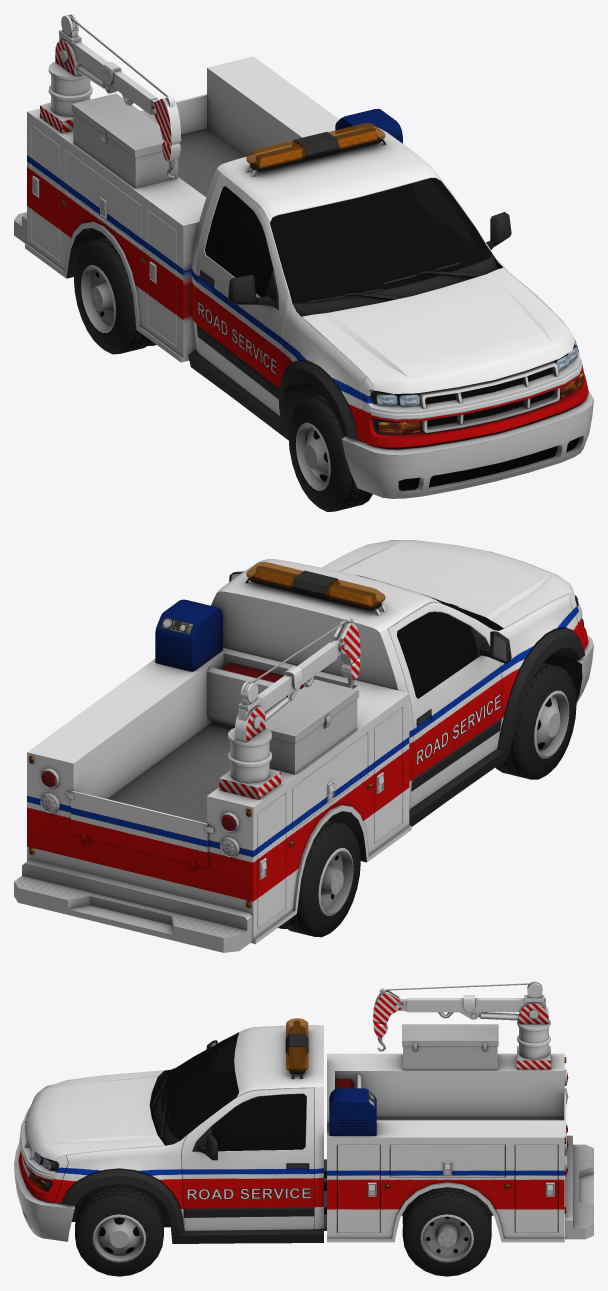
File: truck.glb
3 views of the same model, one above another, from view 1: azimuth 30°, elevation 25°; view 2: azimuth 150°, elevation 25°; view 3: azimuth 270°, elevation 25° (orthographic). The views are drawn at different scales.
Visible parts, largest first — view 1: Body (×3), Door skin and glass (×4), TyreRim (×2), Lamp head, Lamp other; view 2: Body (×2), Door skin and glass (×4), TyreRim (×2), Lamp brake, Lamp other; view 3: Body (×3), Door skin and glass (×3), TyreRim (×2).
Part boxes in pixels (left/top/right/bottom): Body (×3): left=14, top=14, right=593, bottom=498; Door skin and glass (×4): left=171, top=128, right=511, bottom=425; TyreRim (×2): left=74, top=237, right=372, bottom=511; Lamp head: left=376, top=346, right=584, bottom=433; Lamp other: left=139, top=130, right=377, bottom=263; Body (×2): left=14, top=540, right=593, bottom=952; Door skin and glass (×4): left=213, top=560, right=511, bottom=829; TyreRim (×2): left=278, top=662, right=576, bottom=937; Lamp brake: left=29, top=755, right=294, bottom=907; Lamp other: left=255, top=568, right=377, bottom=789; Body (×3): left=14, top=981, right=593, bottom=1243; Door skin and glass (×3): left=176, top=1083, right=344, bottom=1235; TyreRim (×2): left=75, top=1185, right=491, bottom=1276.
Bounding box in the file's own units: 2.75 × 2.7 × 6.5.
8 materials, 7 textured.
